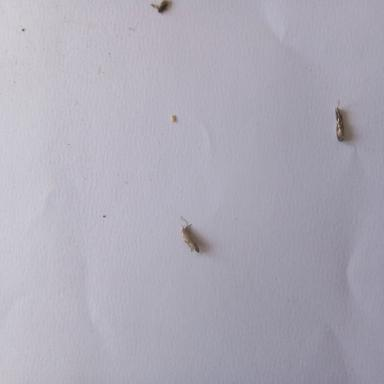pbw: (182, 220, 200, 252), (336, 107, 344, 145)
